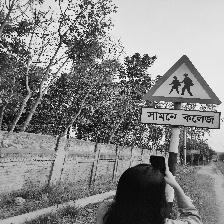College-in-front: (127, 27, 224, 136)
